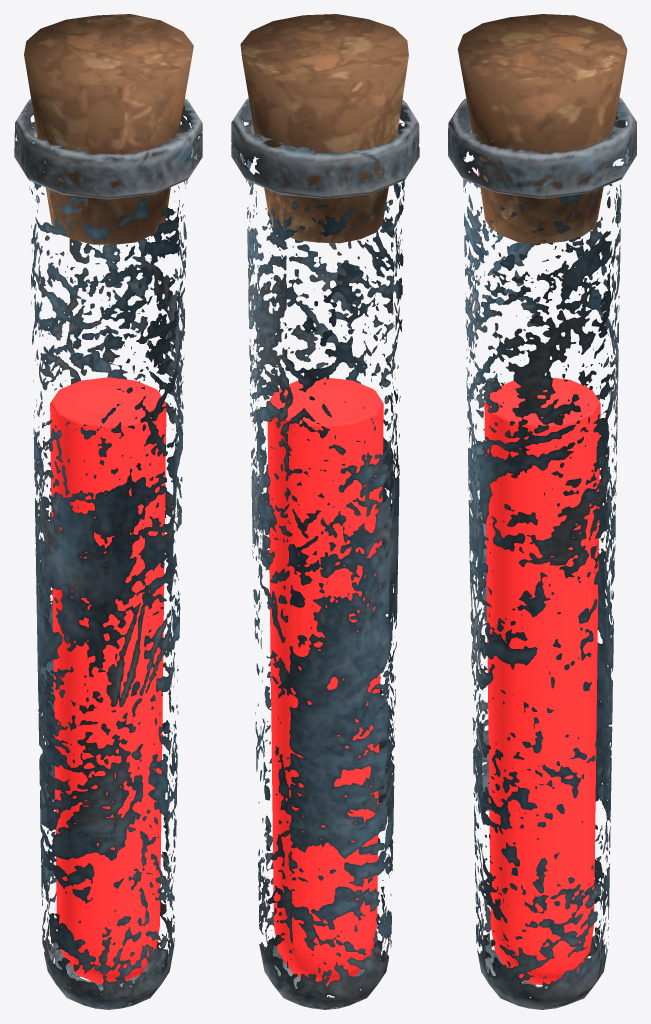
The model's file is Health_Potion.fbx.
3 views of the same model, side by side, from view 1: azimuth 30°, elevation 25°; view 2: azimuth 150°, elevation 25°; view 3: azimuth 270°, elevation 25° (orthographic).
Parts seen in each view (by area): view 1: Circle.003; view 2: Circle.003; view 3: Circle.003.
Boxes of the visible parts, x1,y1,x2,y2 form: Circle.003: (14,14,202,1009); Circle.003: (231,14,419,1009); Circle.003: (448,14,636,1009).
Bounding box in the file's own units: 26.08 × 145 × 26.1.
